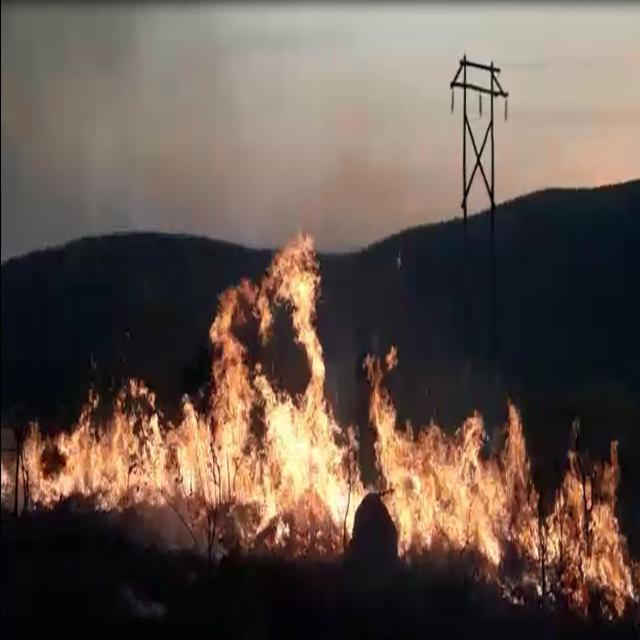Fire: (166, 274, 272, 548), (270, 233, 334, 552), (543, 442, 621, 621), (398, 412, 491, 554), (2, 385, 100, 508), (492, 402, 544, 606), (102, 380, 166, 508), (366, 346, 402, 512), (334, 416, 365, 550), (620, 535, 640, 606)
Smoke: (0, 0, 234, 242), (407, 358, 505, 408), (336, 329, 361, 417), (156, 508, 190, 546)
